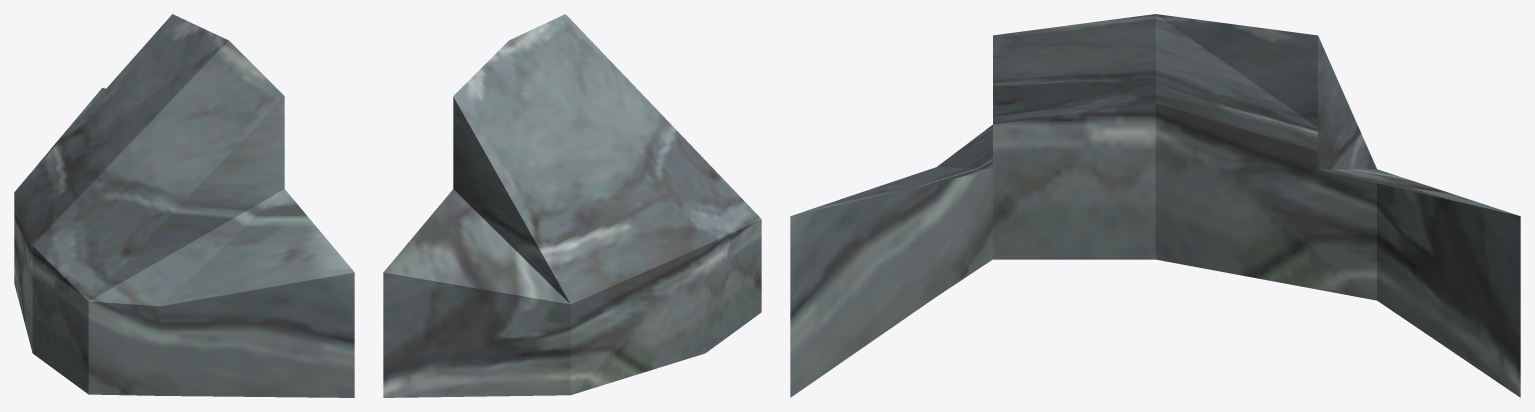
File: stemple_wall_transition_04.fbx
The picture shows the model from 3 angles, left to right: view 1: azimuth 30°, elevation 25°; view 2: azimuth 150°, elevation 25°; view 3: azimuth 270°, elevation 25°; orthographic projection. The views are drawn at different scales.
Visible parts, largest first — view 1: obj0.064; view 2: obj0.064; view 3: obj0.064.
Part boxes in pixels (x1,y1,x2,y2): obj0.064: (14,14,354,397); obj0.064: (383,14,761,397); obj0.064: (790,14,1520,397).
Size of the model in its own units: 0.3733 by 0.4826 by 0.8319.
